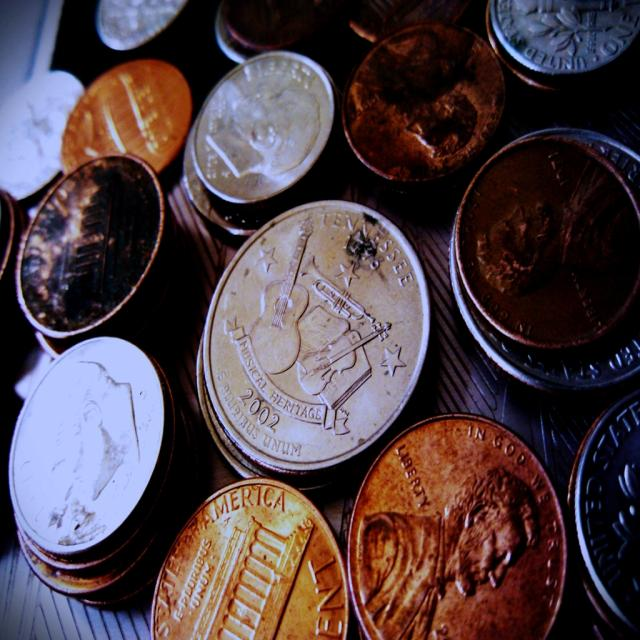Coin: (2, 0, 640, 639)
